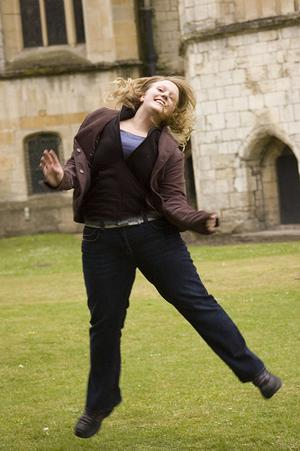person: (41, 72, 282, 441)
